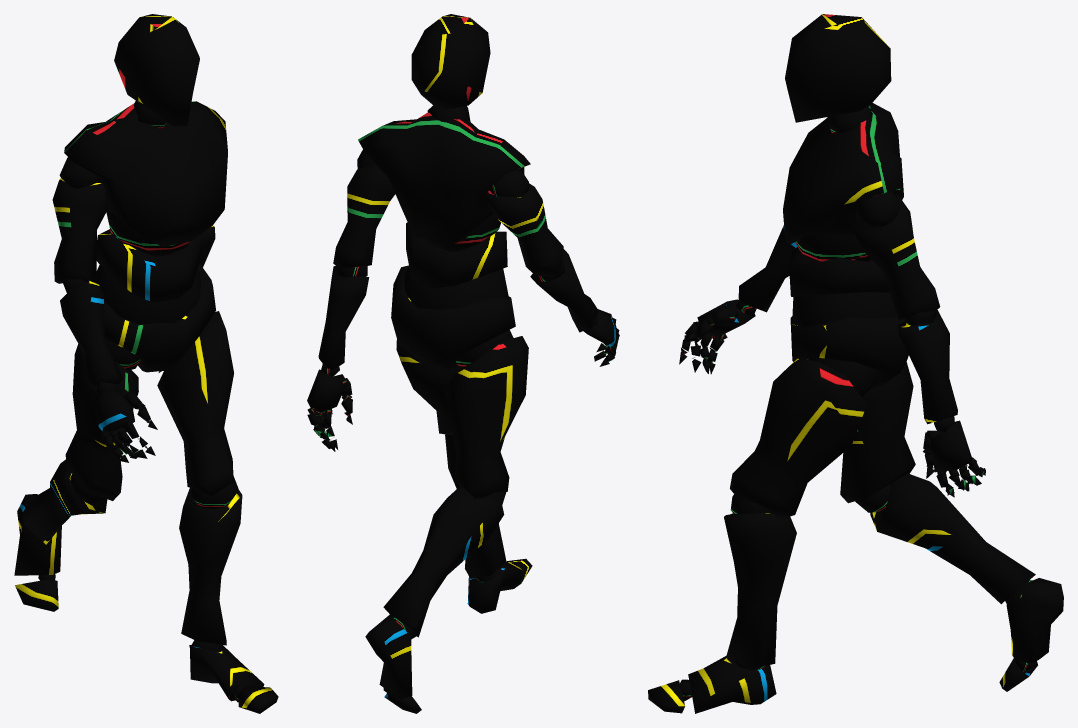
The model's file is y-bot-origin_000023.obj.
The picture shows the model from 3 angles, left to right: view 1: azimuth 30°, elevation 25°; view 2: azimuth 150°, elevation 25°; view 3: azimuth 270°, elevation 25°; orthographic projection. The views are drawn at different scales.
Visible parts, largest first — view 1: Alpha_Surface_Alpha_SurfaceMesh, Alpha_Joints_Alpha_JointsMesh; view 2: Alpha_Surface_Alpha_SurfaceMesh, Alpha_Joints_Alpha_JointsMesh; view 3: Alpha_Surface_Alpha_SurfaceMesh, Alpha_Joints_Alpha_JointsMesh.
Boxes of the visible parts, x1,y1,x2,y2 form: Alpha_Surface_Alpha_SurfaceMesh: (14, 14, 278, 713); Alpha_Joints_Alpha_JointsMesh: (38, 101, 244, 702); Alpha_Surface_Alpha_SurfaceMesh: (307, 14, 619, 713); Alpha_Joints_Alpha_JointsMesh: (307, 105, 619, 697); Alpha_Surface_Alpha_SurfaceMesh: (648, 14, 1063, 713); Alpha_Joints_Alpha_JointsMesh: (680, 106, 1035, 701).
Bounding box in the file's own units: 0.5885 × 1.77 × 0.9698.
